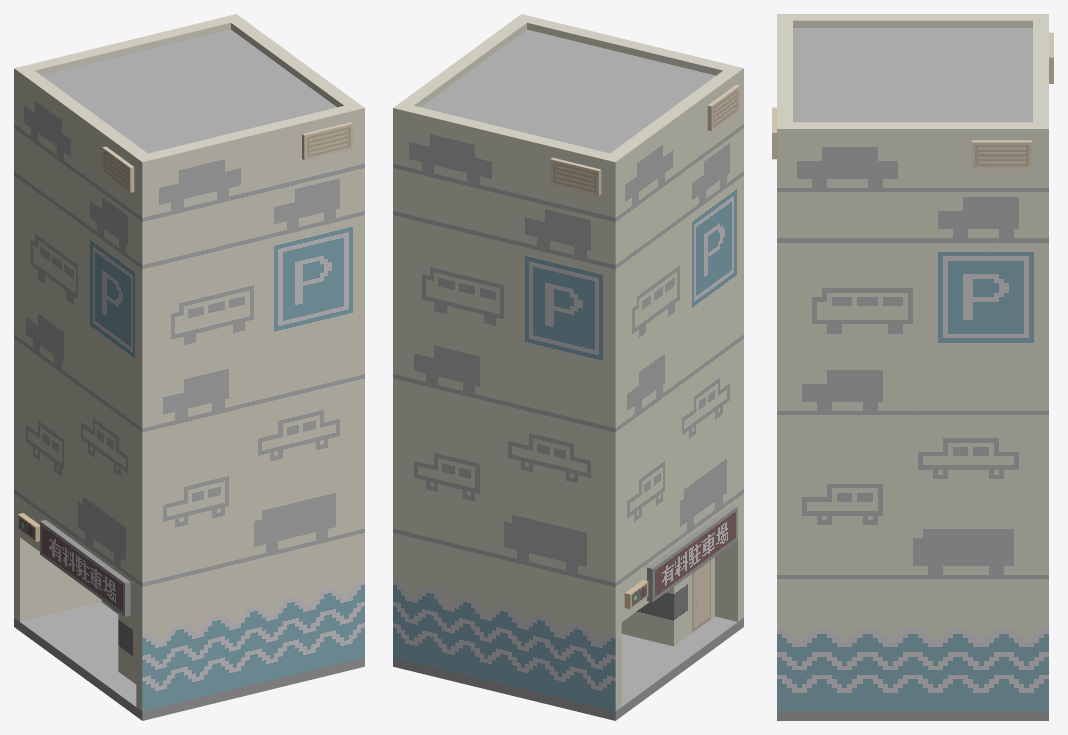
File: 02be_Parking_Garage.glb
The picture shows the model from 3 angles, left to right: view 1: azimuth 30°, elevation 25°; view 2: azimuth 150°, elevation 25°; view 3: azimuth 270°, elevation 25°; orthographic projection. The views are drawn at different scales.
Parts seen in each view (by area): view 1: part_0; view 2: part_0; view 3: part_0.
Boxes of the visible parts, box(x1,y1,x2,y2) form: part_0: box(14, 14, 364, 720); part_0: box(393, 14, 743, 720); part_0: box(772, 14, 1053, 720).
Bounding box in the file's own units: 7.82 × 18 × 7.76.
Materials: 1 (1 with a texture image).
